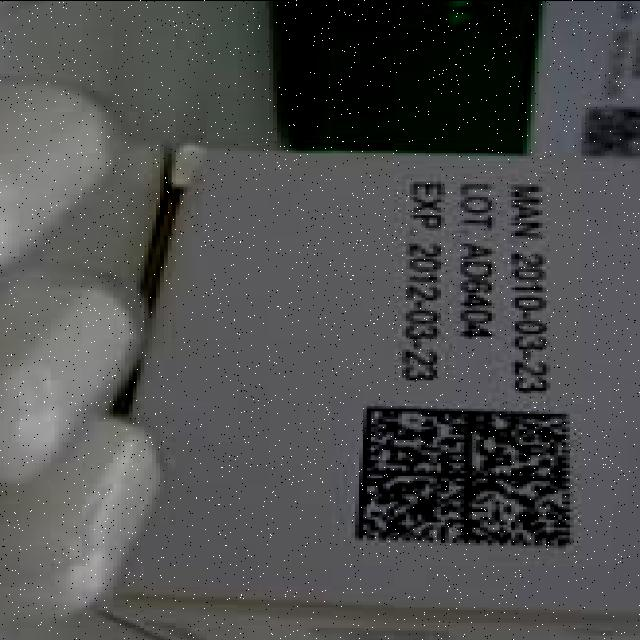datamatrix: (340, 400, 590, 555)
